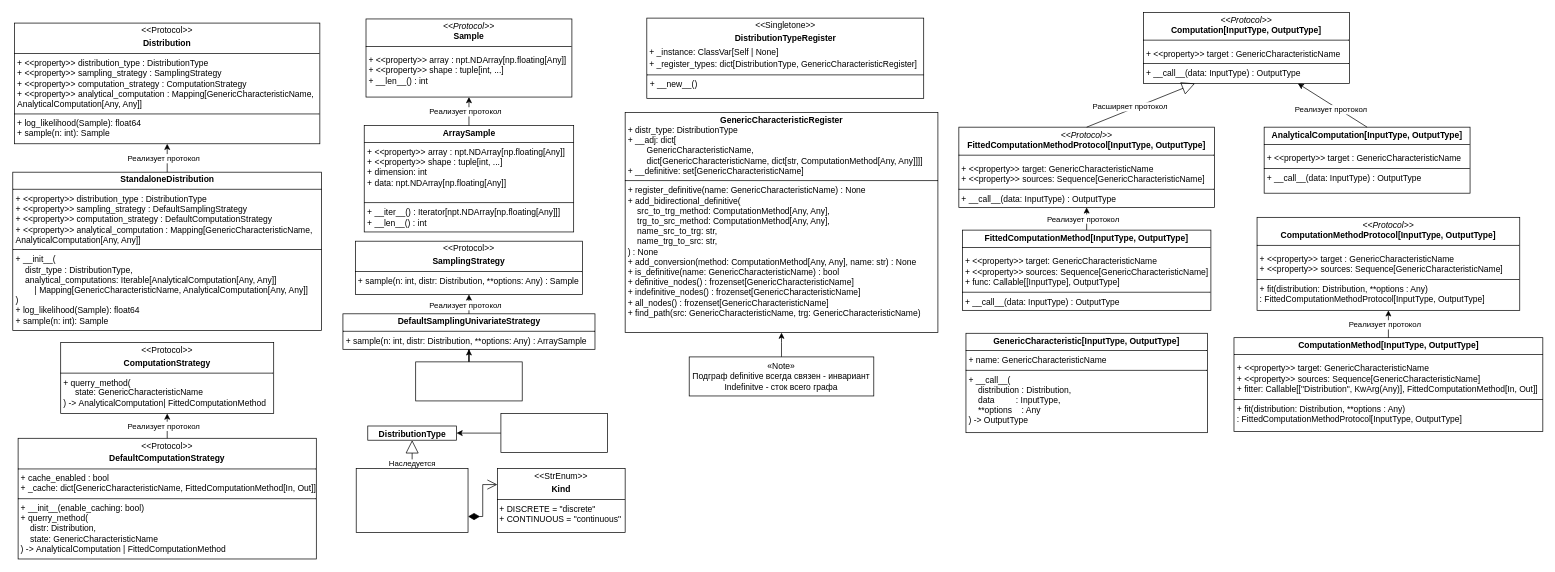
Image size: 1555x572. Some labels were removed from this diagram. The centre of each missing label's shape, as x and y in pixels:
<<Dataclass>> EuclideanDistributionType + kind: Kind + dimension: int: pixel 411 500
«Note» Пустой, начальная точка для других типов: pixel 553 433
«Note» Через равномерное и квантильную функцию: pixel 468 381
